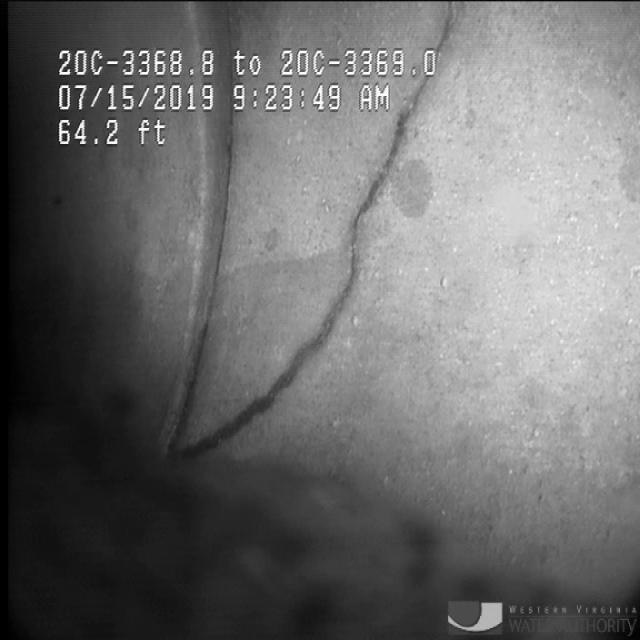Crack: (244, 146, 401, 444)
